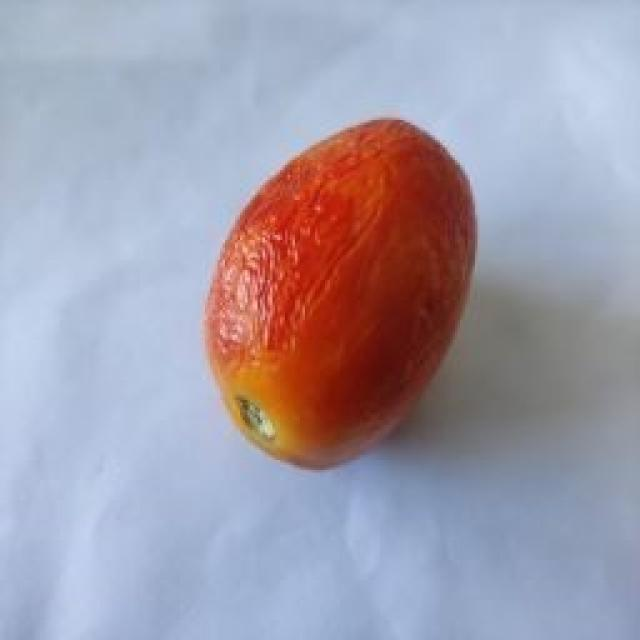overripe: (195, 118, 482, 475)
